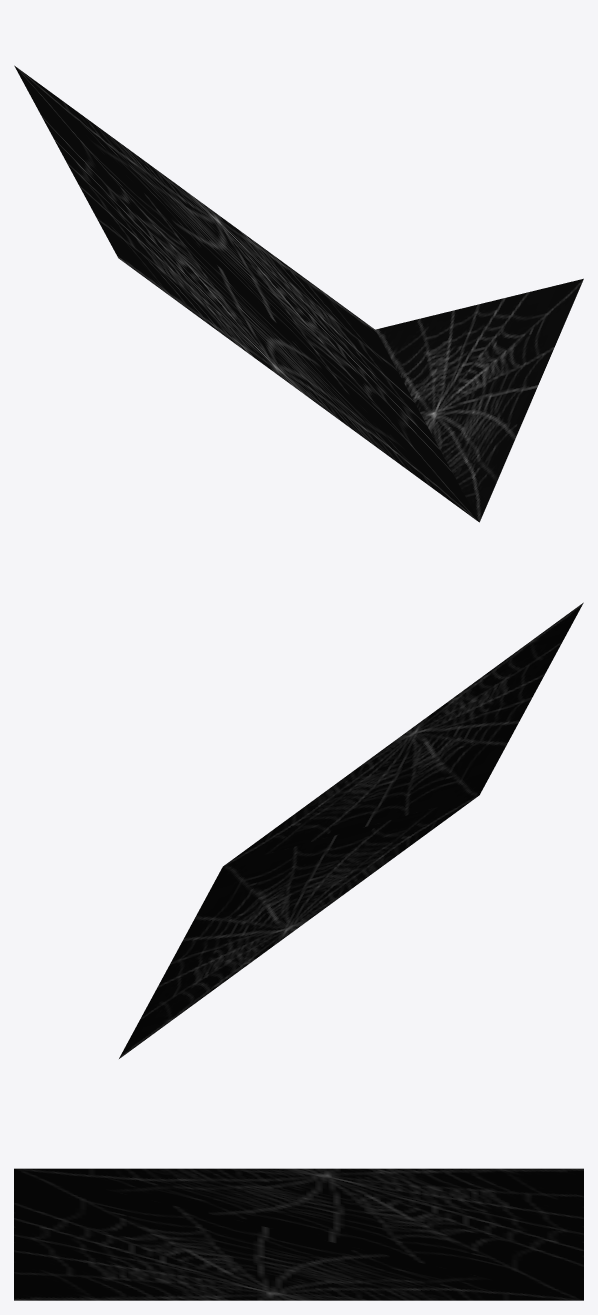
3 renders of one model, top to bottom at view 1: azimuth 30°, elevation 25°; view 2: azimuth 150°, elevation 25°; view 3: azimuth 270°, elevation 25°, orthographic. The views are drawn at different scales.
Parts seen in each view (by area): view 1: model_Object53; view 2: model_Object53; view 3: model_Object53.
Boxes of the visible parts, x1,y1,x2,y2 form: model_Object53: (14, 65, 583, 522); model_Object53: (119, 602, 583, 1058); model_Object53: (14, 1168, 583, 1300).
Bounding box in the file's own units: 1 × 1 × 3.
1 material, 1 textured.
